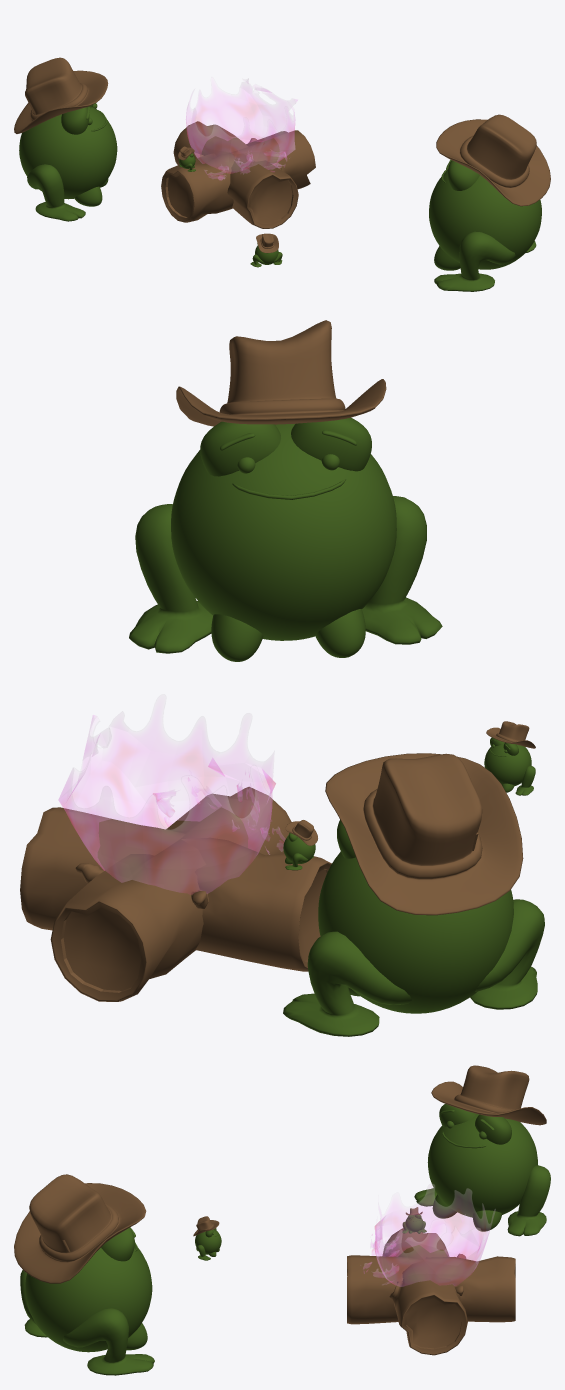
The picture shows the model from 3 angles, top to bottom: view 1: azimuth 30°, elevation 25°; view 2: azimuth 150°, elevation 25°; view 3: azimuth 270°, elevation 25°; orthographic projection. The views are drawn at different scales.
Visible parts, largest first — view 1: frog_boi (×3), log_boi (×2), hat_boi (×3), Large Fire; view 2: frog_boi (×3), log_boi (×2), hat_boi (×2), Large Fire; view 3: frog_boi (×3), log_boi (×2), hat_boi (×2), Large Fire.
Part boxes in pixels (<box>): frog_boi (×3): <box>19,103,541,291</box>; log_boi (×2): <box>161,121,315,228</box>; hat_boi (×3): <box>14,57,550,253</box>; Large Fire: <box>186,77,297,173</box>; frog_boi (×3): <box>129,417,544,1036</box>; log_boi (×2): <box>20,786,331,1001</box>; hat_boi (×2): <box>176,320,523,915</box>; Large Fire: <box>58,695,275,894</box>; frog_boi (×3): <box>20,1104,550,1375</box>; log_boi (×2): <box>347,1228,515,1355</box>; hat_boi (×2): <box>14,1065,546,1283</box>; Large Fire: <box>374,1184,495,1286</box>.
Size of what is drawn, in the model's own units: 8.18 by 4.28 by 9.59.
Materials: 3 (1 with a texture image).
